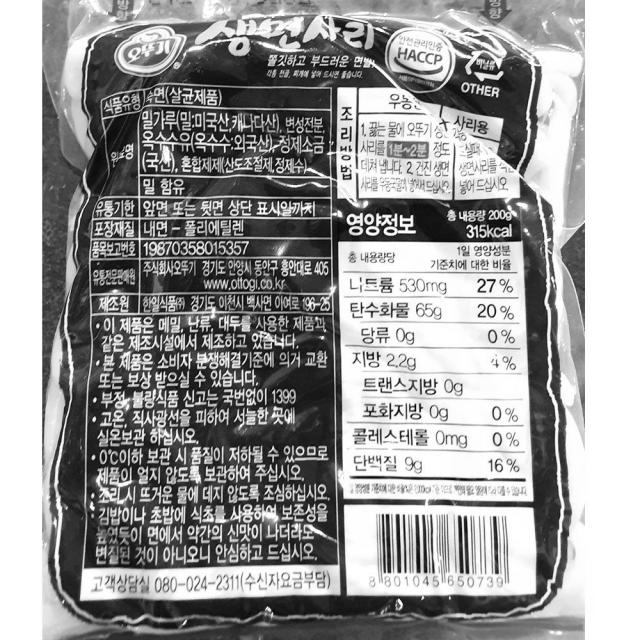Nutrition Label: (325, 200, 543, 508)
